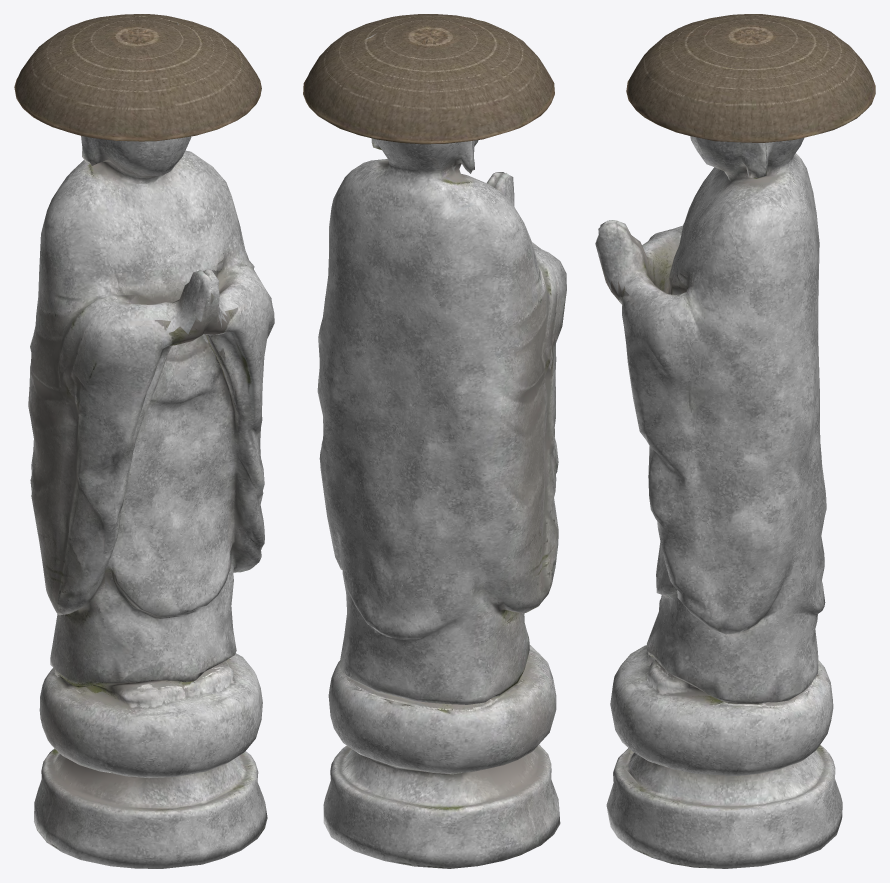
The model's file is arhat-kasa-3.glb.
The picture shows the model from 3 angles, left to right: view 1: azimuth 30°, elevation 25°; view 2: azimuth 150°, elevation 25°; view 3: azimuth 270°, elevation 25°; orthographic projection. The views are drawn at different scales.
Visible parts, largest first — view 1: arhat-kasa-3-low; view 2: arhat-kasa-3-low; view 3: arhat-kasa-3-low.
Boxes of the visible parts, x1=… form: arhat-kasa-3-low: x1=14, y1=14, x2=274, y2=868; arhat-kasa-3-low: x1=303, y1=14, x2=566, y2=868; arhat-kasa-3-low: x1=595, y1=14, x2=875, y2=868.
Bounding box in the file's own units: 0.2887 × 1 × 0.3241.
1 material, 1 textured.
